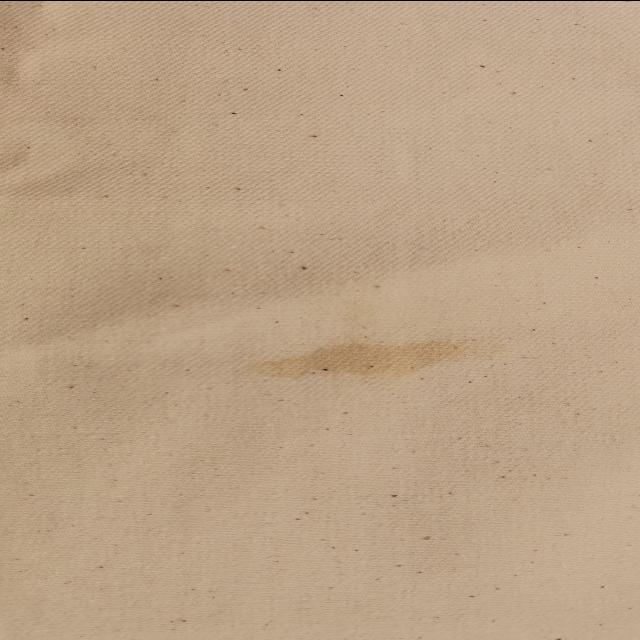taaaches: (222, 326, 509, 394)
